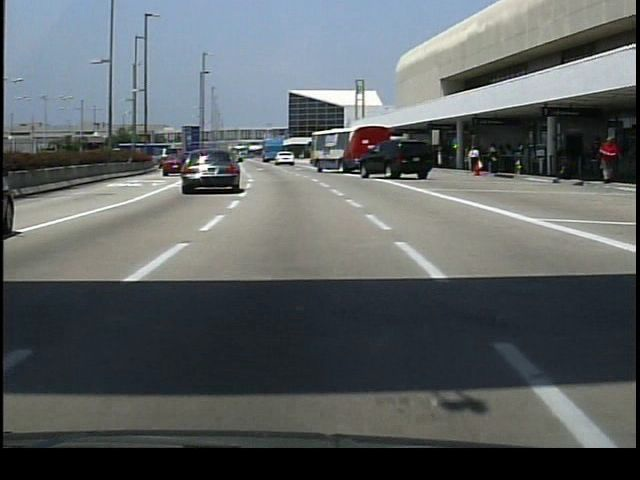person: (597, 135, 621, 185), (467, 143, 482, 178)
